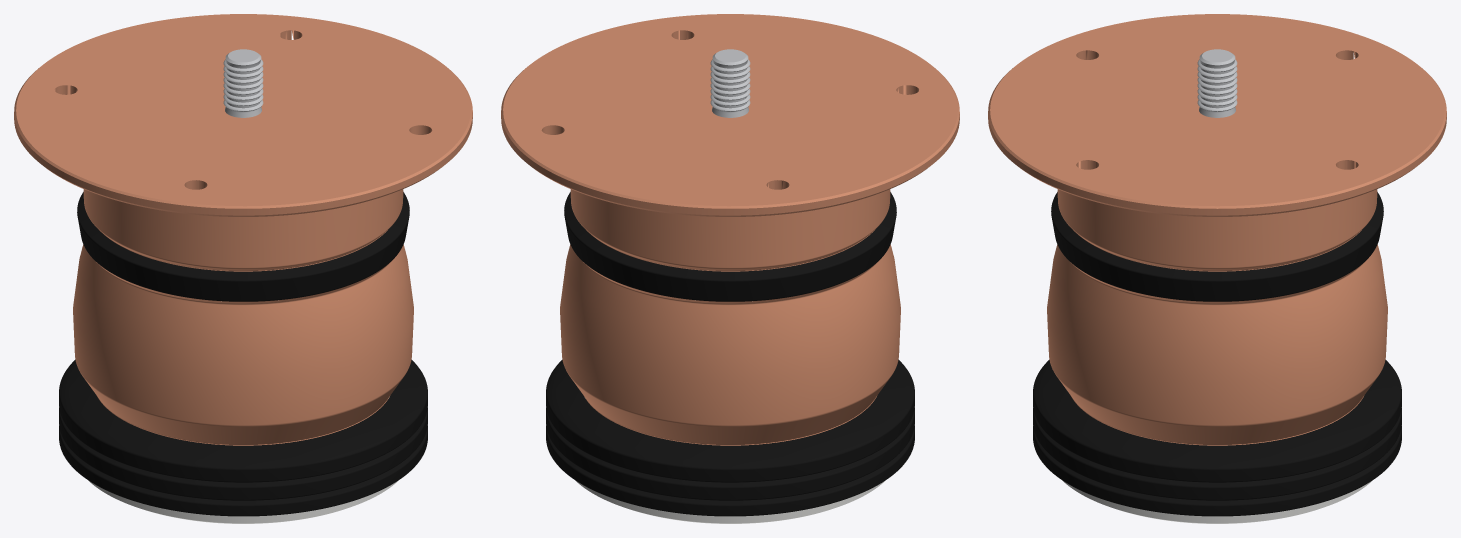
Rendered from sofa-legs-1231.glb.
3 renders of one model, left to right at view 1: azimuth 30°, elevation 25°; view 2: azimuth 150°, elevation 25°; view 3: azimuth 270°, elevation 25°, orthographic.
Visible parts, largest first — view 1: Body, Plate, Stud, Glide; view 2: Body, Plate, Stud, Glide; view 3: Body, Plate, Stud, Glide.
Part boxes in pixels (<box>): Body: <box>59,189,427,516</box>; Plate: <box>14,14,472,216</box>; Stud: <box>223,49,263,117</box>; Glide: <box>88,480,398,523</box>; Body: <box>546,189,914,516</box>; Plate: <box>501,14,959,216</box>; Stud: <box>710,49,750,117</box>; Glide: <box>575,480,885,523</box>; Body: <box>1033,189,1401,516</box>; Plate: <box>988,14,1446,216</box>; Stud: <box>1197,49,1237,117</box>; Glide: <box>1062,480,1372,523</box>.
Size of the model in its own units: 0.092 by 0.0882 by 0.092.
